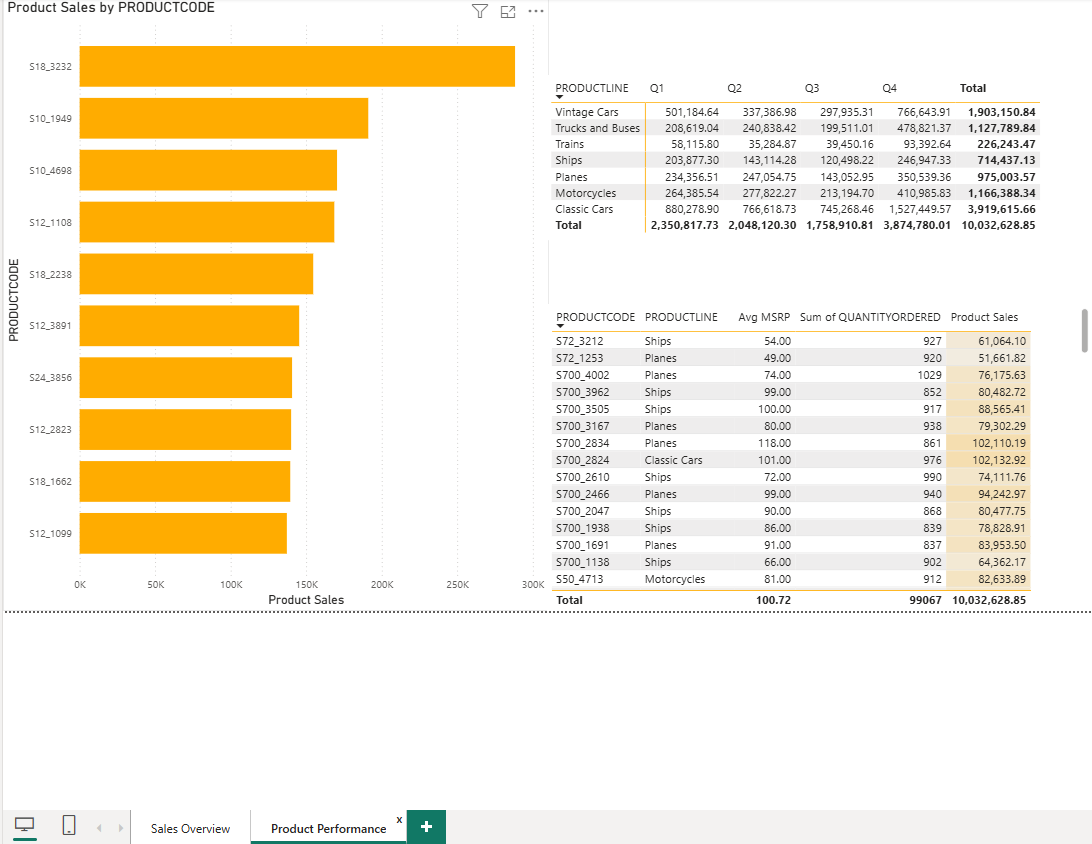

What the dashboard file says about the page in this screenshot:
{"tool":"powerbi","page":{"name":"Product Performance","canvas":[1280,720],"ordinal":1},"visuals":[{"type":"barChart","fields":{"Category":["orders.PRODUCTCODE"],"Y":["orders.Product Sales"]},"box":[0,0,641.2,719.9],"z":0},{"type":"pivotTable","fields":{"Rows":["orders.PRODUCTLINE"],"Values":["orders.Product Sales"],"Columns":["orders.Quarter"]},"box":[638.8,90.4,638.8,193.8],"z":1000},{"type":"tableEx","fields":{"Values":["orders.PRODUCTCODE","orders.PRODUCTLINE","orders.Avg MSRP","Sum(orders.QUANTITYORDERED)","orders.Product Sales"]},"box":[638.8,359.3,641.2,360.5],"z":2000}]}

Visuals, with their boxes on the page's 1280x720 design canvas (x1, y1, x2, y2). These are canvas units, not pixel positions in the 1092x844 screenshot, which may show the page scaled, cropped or inside an application window:
barChart - orders.PRODUCTCODE x orders.Product Sales: x1=0 y1=0 x2=641 y2=720
pivotTable - orders.PRODUCTLINE x orders.Product Sales: x1=639 y1=90 x2=1278 y2=284
tableEx - orders.PRODUCTCODE x orders.PRODUCTLINE: x1=639 y1=359 x2=1280 y2=720
